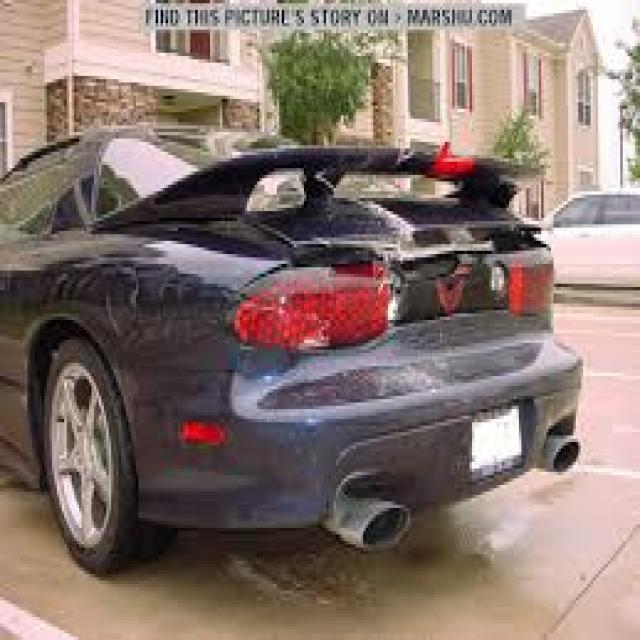minor: (72, 57, 557, 351)
